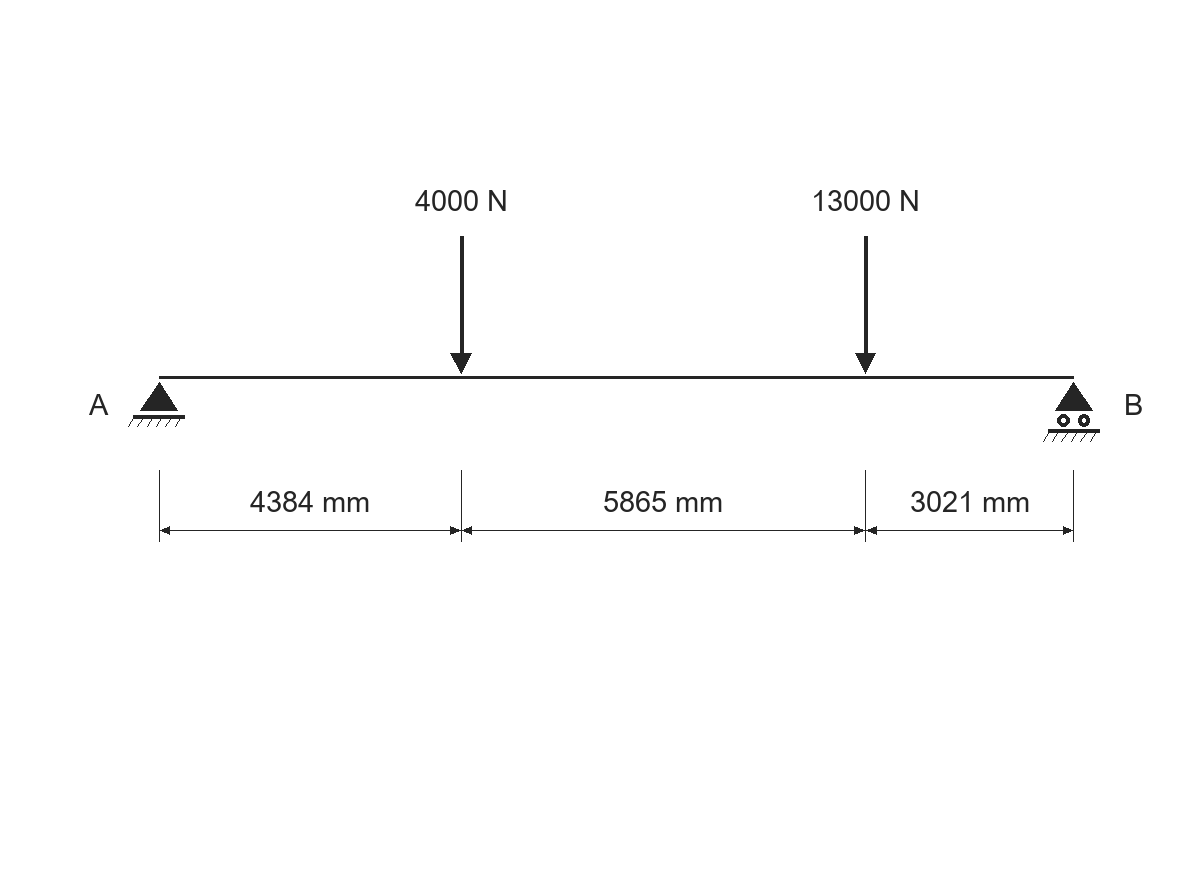pin_support: (128, 382, 185, 427)
point_load: (450, 236, 472, 374), (855, 236, 876, 374)
roller_support: (1043, 382, 1100, 442)
